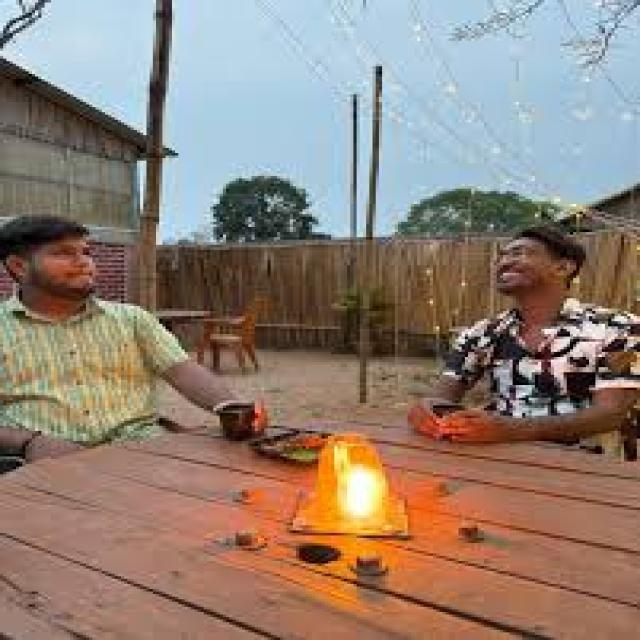fire: (337, 461, 381, 517)
